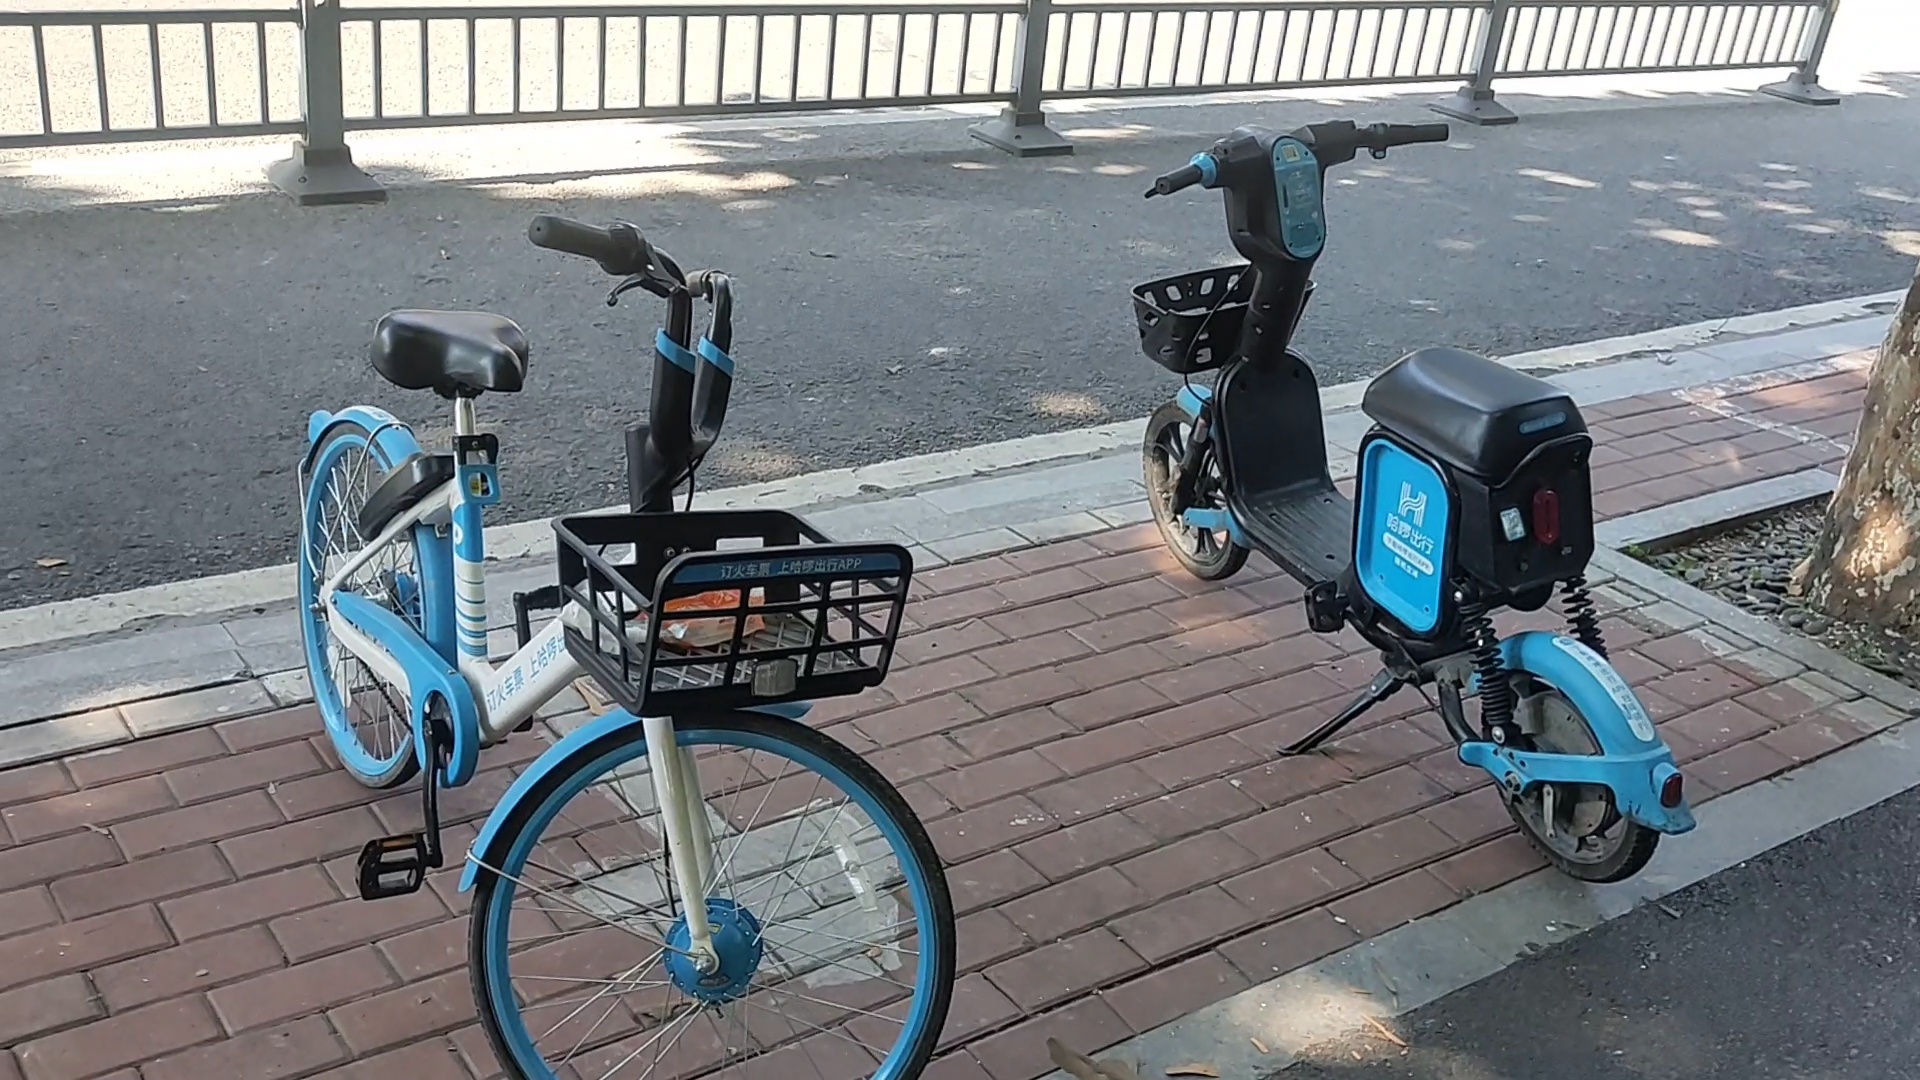non-vehicle: (286, 149, 956, 1075), (1124, 105, 1693, 895)
